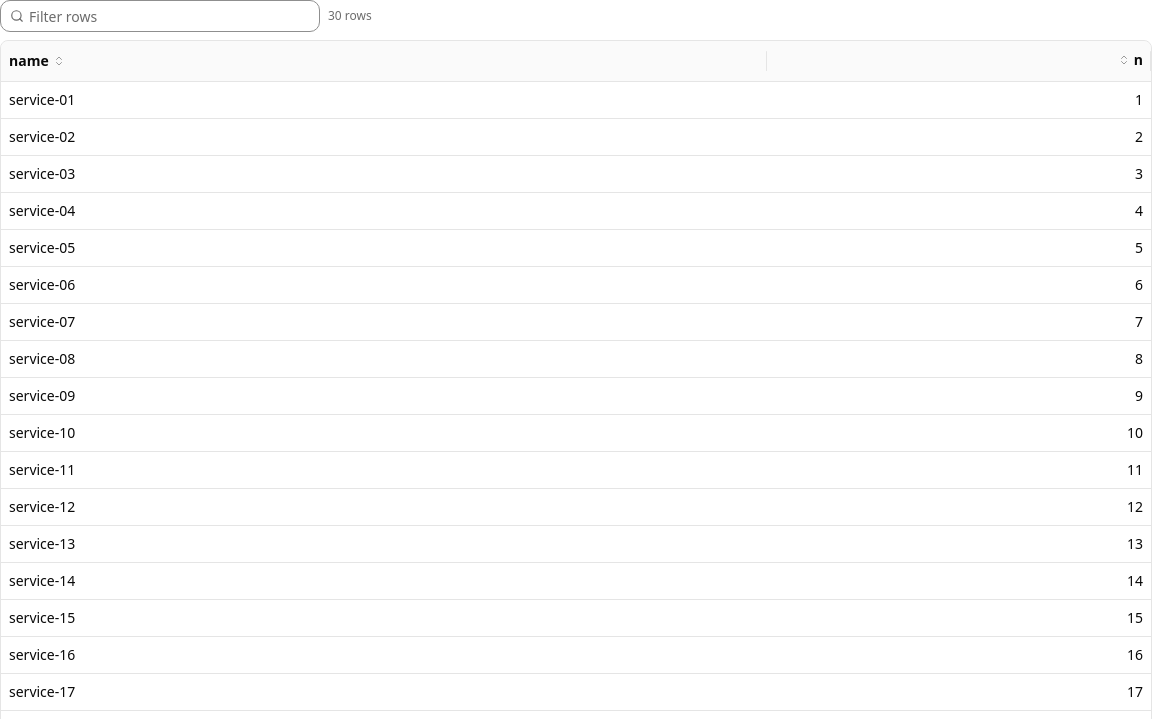
Test: table primitive › filters rows across every column
This screenshot has width=1152, height=719.
In the field labelled "Filter rows": (160, 16) [0,0,320,32], type "service-1"
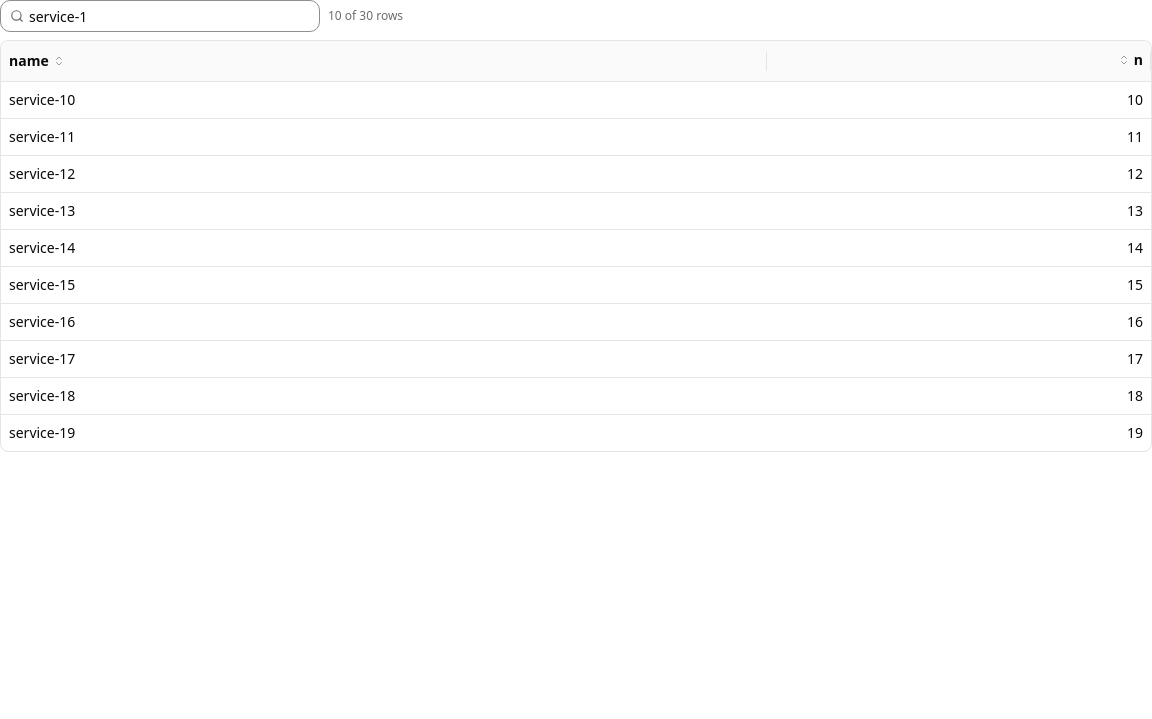
expect the text "10 of 30 rows" is shown: met, box [328,8,403,24]
